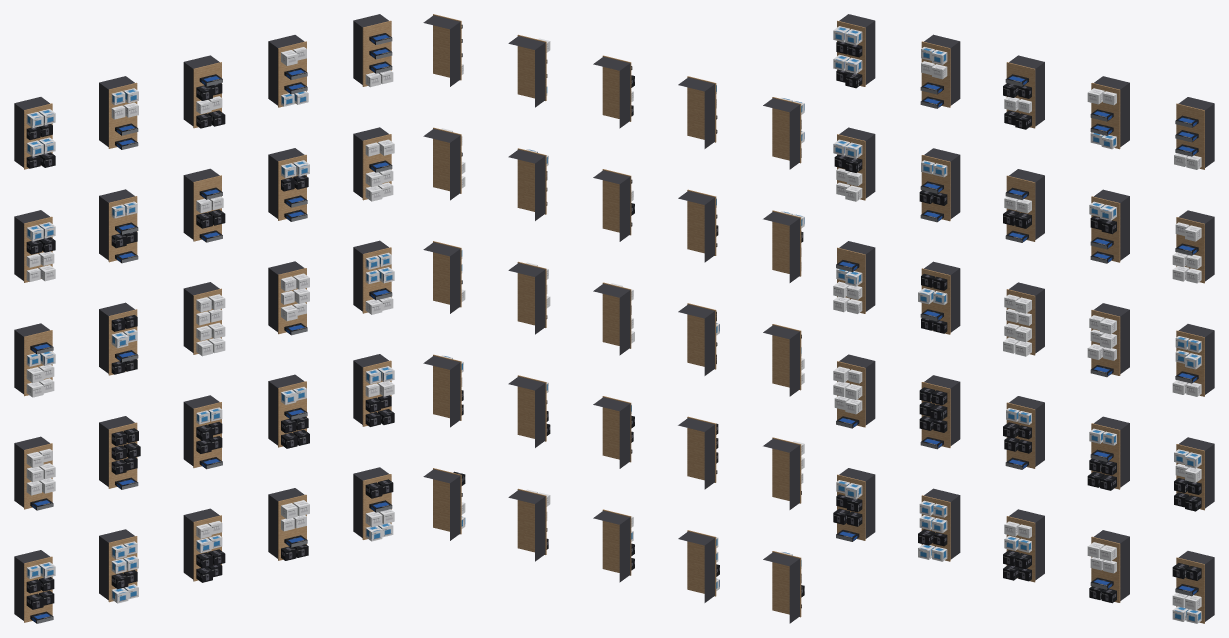
Rendered from tables_sw.gltf.
The picture shows the model from 3 angles, left to right: view 1: azimuth 30°, elevation 25°; view 2: azimuth 150°, elevation 25°; view 3: azimuth 330°, elevation 25°; orthographic projection.
Visible parts, largest first — view 1: tables_sw; view 2: tables_sw; view 3: tables_sw.
Boxes of the visible parts, x1,y1,x2,y2 form: tables_sw: (14, 14, 394, 623); tables_sw: (423, 14, 804, 623); tables_sw: (833, 14, 1214, 623).
Size of the model in its own units: 15.6 by 20.8 by 1.3.
7 materials, 5 textured.
